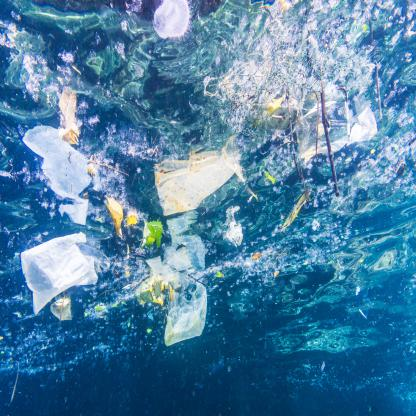plastic-bag: (21, 122, 90, 226), (19, 230, 98, 315), (165, 284, 208, 344)
waste: (154, 136, 246, 216), (320, 74, 340, 200), (286, 86, 301, 178), (61, 86, 80, 146), (137, 274, 164, 308), (105, 195, 124, 240), (90, 159, 128, 178), (143, 218, 163, 253), (365, 2, 377, 58), (50, 296, 73, 321), (375, 61, 384, 122)
